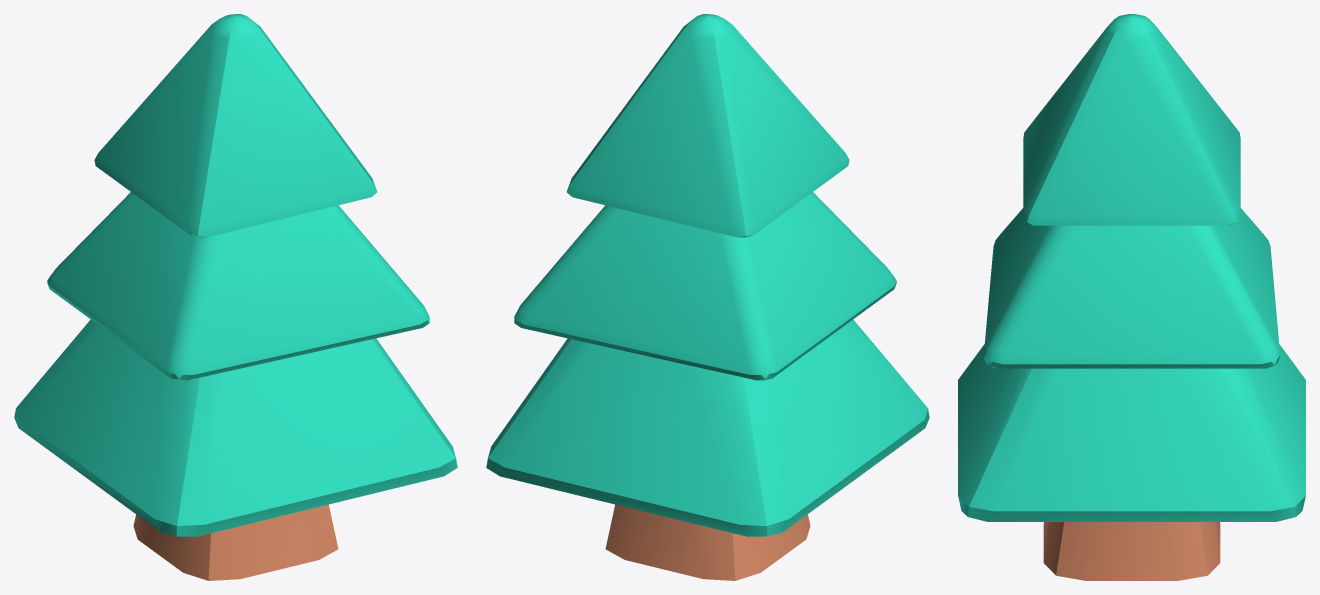
Rendered from Tree_Winter.fbx.
3 renders of one model, left to right at view 1: azimuth 30°, elevation 25°; view 2: azimuth 150°, elevation 25°; view 3: azimuth 270°, elevation 25°, orthographic.
Visible parts, largest first — view 1: Tree_Winter; view 2: Tree_Winter; view 3: Tree_Winter.
Boxes of the visible parts, bbox=[...] form: Tree_Winter: bbox=[14, 14, 457, 580]; Tree_Winter: bbox=[486, 14, 929, 580]; Tree_Winter: bbox=[958, 14, 1305, 580].
Size of the model in its own units: 271 by 454 by 271.
